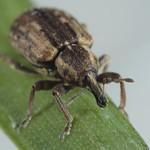weevils: (0, 0, 148, 149)
